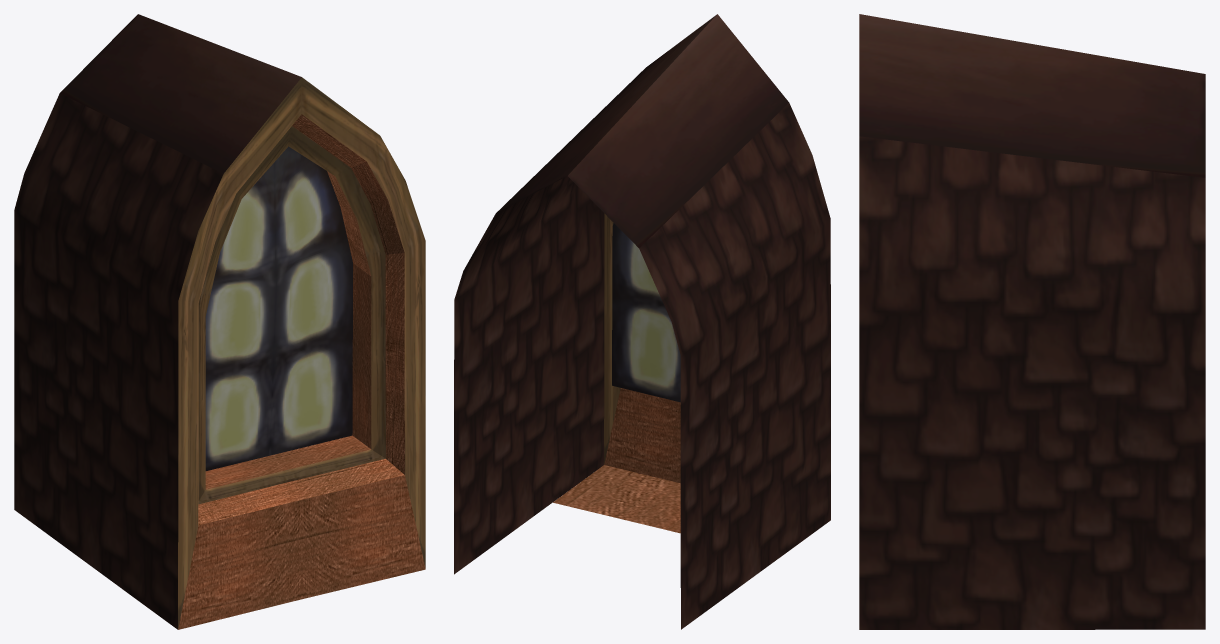
Rendered from fanasty_mod_roof_window03.fbx.
3 renders of one model, left to right at view 1: azimuth 30°, elevation 25°; view 2: azimuth 150°, elevation 25°; view 3: azimuth 270°, elevation 25°, orthographic. The views are drawn at different scales.
Visible parts, largest first — view 1: roof_window_03; view 2: roof_window_03; view 3: roof_window_03.
Part boxes in pixels (left/top/right/bottom): roof_window_03: left=14, top=14, right=425, bottom=629; roof_window_03: left=454, top=14, right=830, bottom=629; roof_window_03: left=859, top=14, right=1205, bottom=629.
Bounding box in the file's own units: 1.29 × 2.61 × 1.48.
